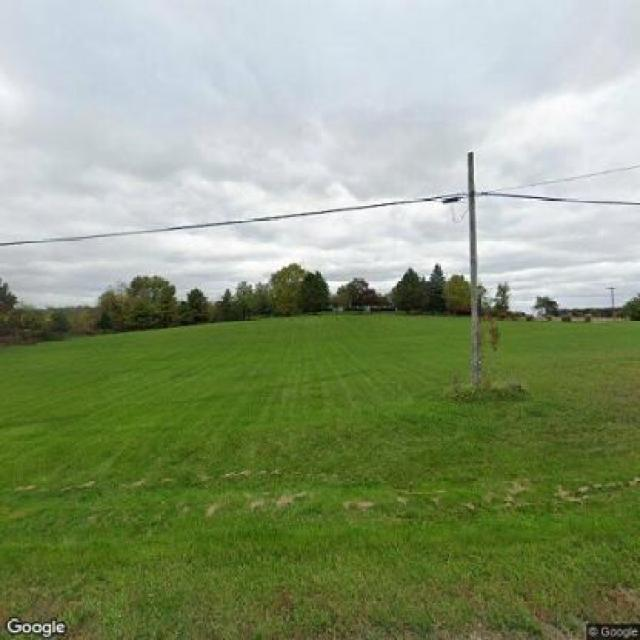pole: (437, 146, 505, 389)
